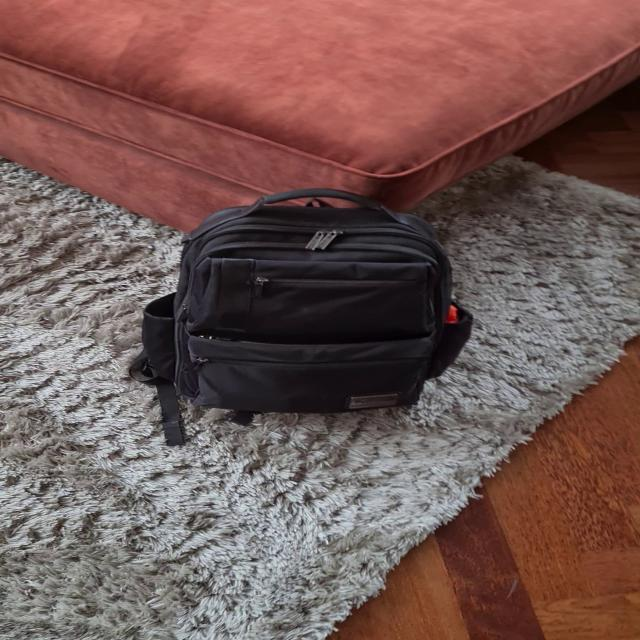backpack: (129, 184, 484, 424)
